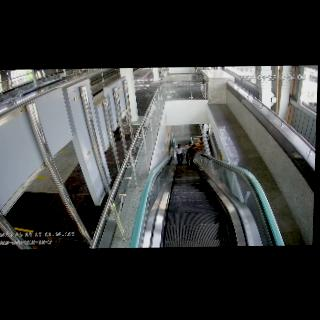normal: (186, 143, 199, 167), (174, 144, 184, 166), (183, 140, 192, 156)
